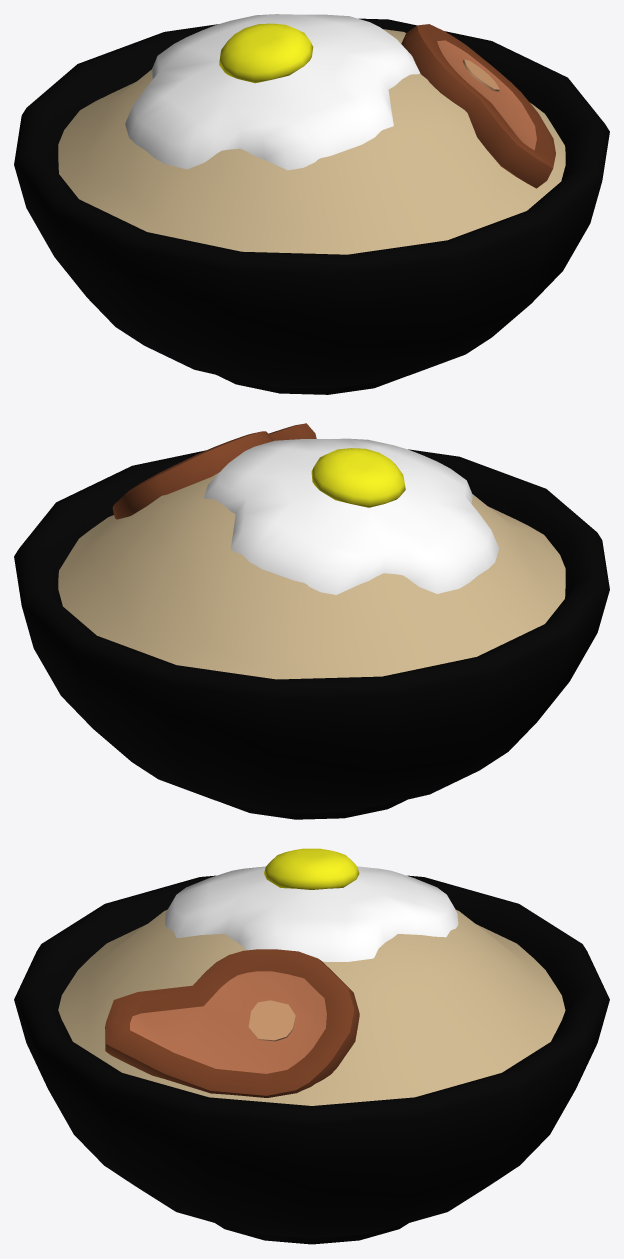
The model's file is ASFTR_Bowl_RiceHumanEgg.fbx.
3 renders of one model, top to bottom at view 1: azimuth 30°, elevation 25°; view 2: azimuth 150°, elevation 25°; view 3: azimuth 270°, elevation 25°, orthographic.
Parts seen in each view (by area): view 1: ASFTR_Bowl_RiceHumanEgg; view 2: ASFTR_Bowl_RiceHumanEgg; view 3: ASFTR_Bowl_RiceHumanEgg.
Boxes of the visible parts, x1,y1,x2,y2 form: ASFTR_Bowl_RiceHumanEgg: (14, 14, 609, 394); ASFTR_Bowl_RiceHumanEgg: (14, 423, 609, 819); ASFTR_Bowl_RiceHumanEgg: (14, 848, 609, 1244).
Size of the model in its own units: 60.78 by 35.67 by 60.78.
